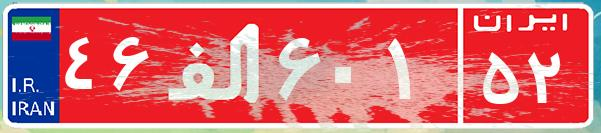0: (330, 28, 385, 110)
1: (385, 28, 445, 110)
2: (525, 38, 570, 115)
4: (57, 26, 110, 107)
5: (475, 38, 525, 113)
6: (273, 28, 330, 110), (110, 28, 158, 105)
الف: (158, 15, 273, 115)
